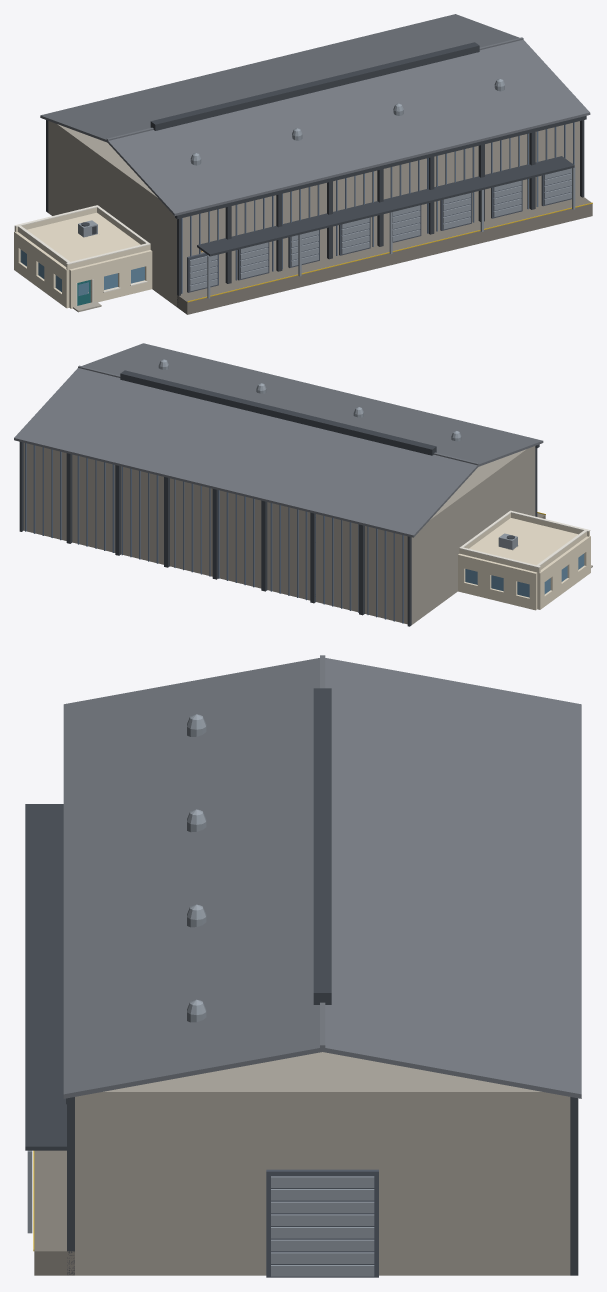
File: BUILDING_15.obj
The picture shows the model from 3 angles, top to bottom: view 1: azimuth 30°, elevation 25°; view 2: azimuth 150°, elevation 25°; view 3: azimuth 270°, elevation 25°; orthographic projection. The views are drawn at different scales.
Parts seen in each view (by area): view 1: roof, walls_core, dock_plinth, dock_doors, dock_canopy, office_annex, walls_floor00, steel_columns, ridge_vent, corrugation, eave_beam, windows_floor00 (+3 smaller); view 2: roof, walls_core, corrugation, steel_columns, walls_floor00, office_annex, ridge_vent, windows_floor00, roof_vents; view 3: roof, walls_core, dock_canopy, end_door, ridge_vent, dock_plinth, steel_columns, roof_vents.
Part boxes in pixels (box(x1,y1,x2,y2)): roof: box(40, 14, 590, 215); walls_core: box(48, 121, 579, 306); dock_plinth: box(177, 196, 592, 314); dock_doors: box(187, 163, 572, 292); dock_canopy: box(197, 156, 575, 298); office_annex: box(14, 205, 150, 269); walls_floor00: box(14, 231, 152, 308); steel_columns: box(46, 120, 584, 307); ridge_vent: box(150, 42, 479, 130); corrugation: box(181, 122, 574, 293); eave_beam: box(175, 116, 586, 219); windows_floor00: box(20, 249, 147, 292); roof: box(14, 343, 543, 537); walls_core: box(23, 442, 535, 624); corrugation: box(25, 443, 403, 623); steel_columns: box(19, 442, 537, 626); walls_floor00: box(458, 536, 590, 610); office_annex: box(459, 510, 590, 572); ridge_vent: box(120, 370, 436, 455); windows_floor00: box(465, 553, 584, 597); roof_vents: box(158, 359, 461, 441); roof: box(63, 655, 581, 1098); walls_core: box(75, 1052, 570, 1275); dock_canopy: box(25, 804, 66, 1233); end_door: box(266, 1169, 378, 1277); ridge_vent: box(313, 688, 331, 1004); dock_plinth: box(34, 1150, 74, 1275); steel_columns: box(67, 1097, 578, 1275); roof_vents: box(187, 714, 206, 1022).
Size of the model in its own units: 48.78 by 12 by 24.7.
